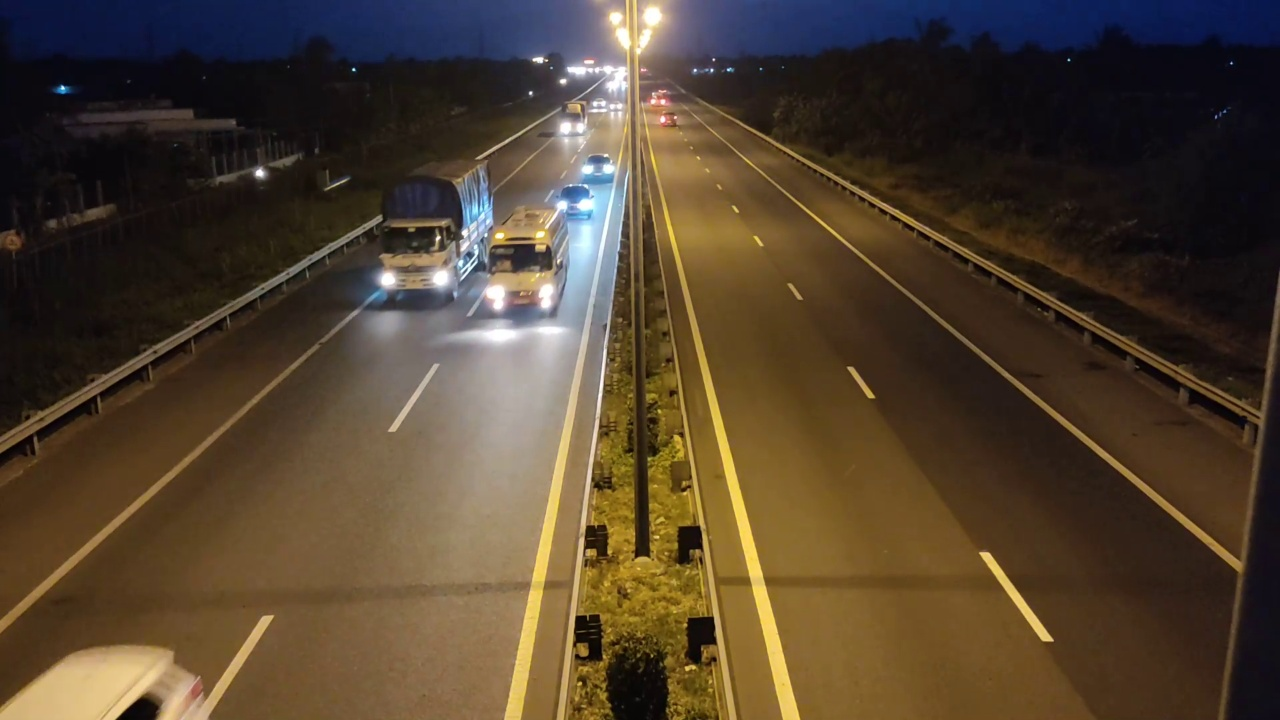bus: (482, 203, 571, 318)
car: (549, 183, 595, 219), (581, 154, 615, 181)
truck: (375, 158, 495, 308)
